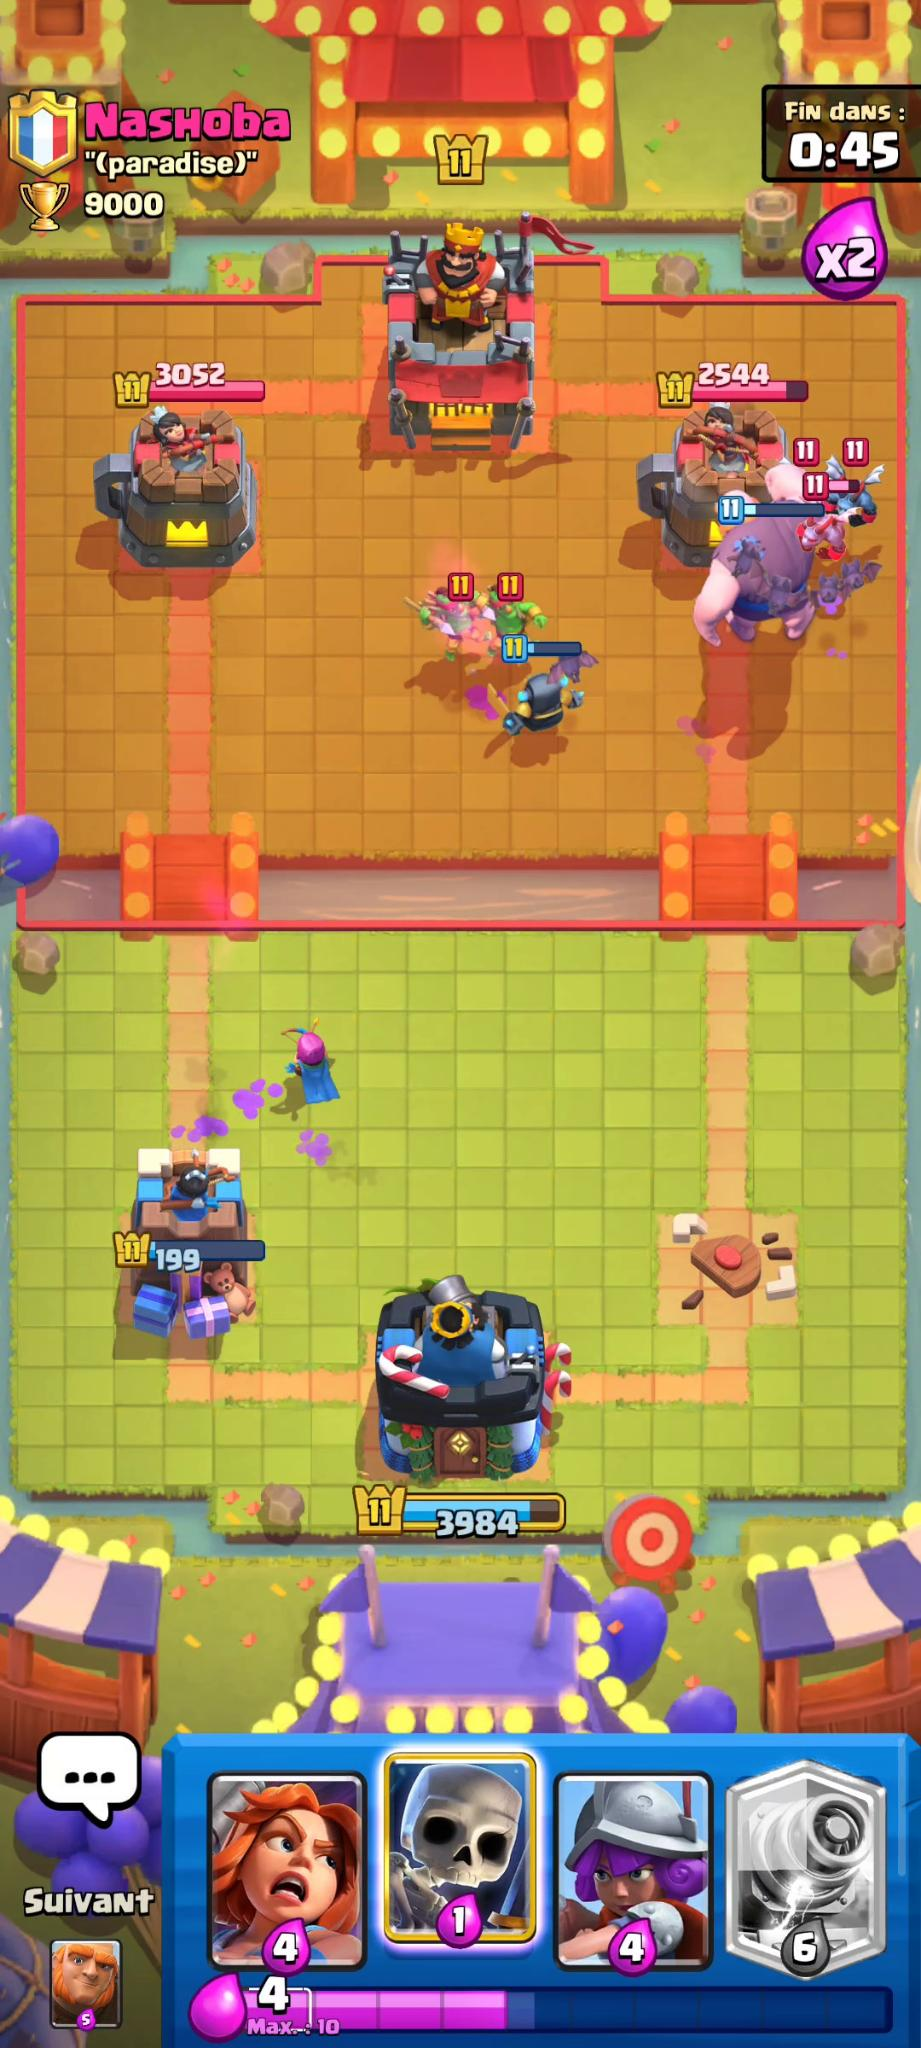archere: (280, 1021, 340, 1104)
bat: (554, 640, 584, 679)
gargouille: (833, 461, 883, 526), (798, 499, 849, 556), (779, 448, 826, 498), (837, 552, 882, 600), (768, 562, 801, 614), (816, 563, 844, 618), (733, 532, 760, 576)
geant: (716, 508, 814, 633)
gobelin_lances: (491, 571, 540, 653), (430, 579, 482, 645)
mini_PEKKA: (500, 654, 580, 742)
